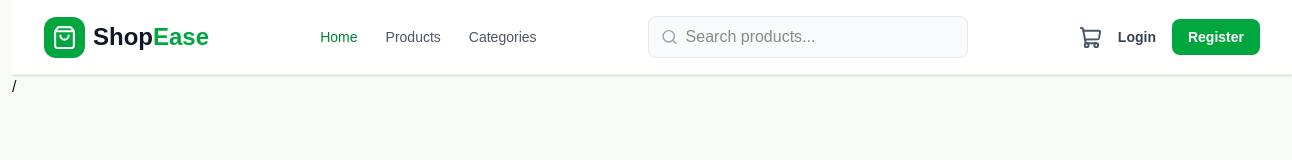
Test: Navbar › searches for products and navigates to the results
This screenshot has width=1292, height=160.
Type "Green Shoes" into the search field with placeholder "Search products..." at (816, 37), box [678,17,955,57]
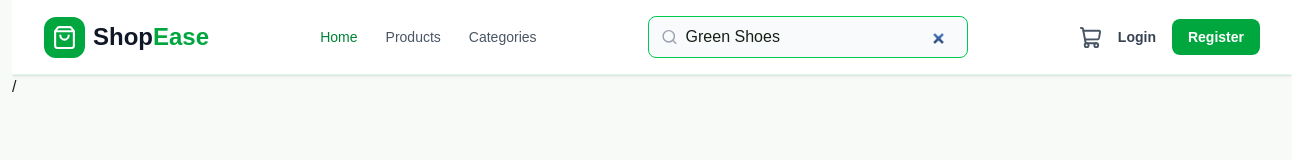
Submit the form with placeholder "Search products...", box [648,16,968,58]
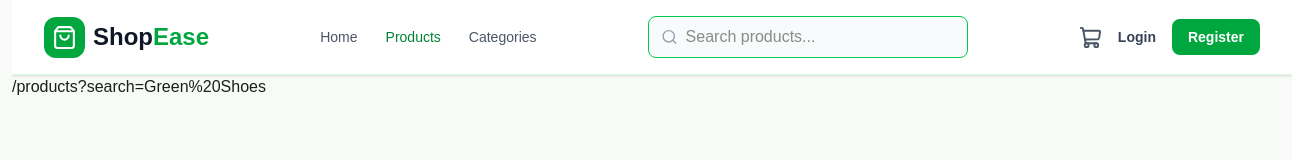
Expected: the text with test id "current-location" reads "/products?search=Green%20Shoes", [12,78,266,95]
